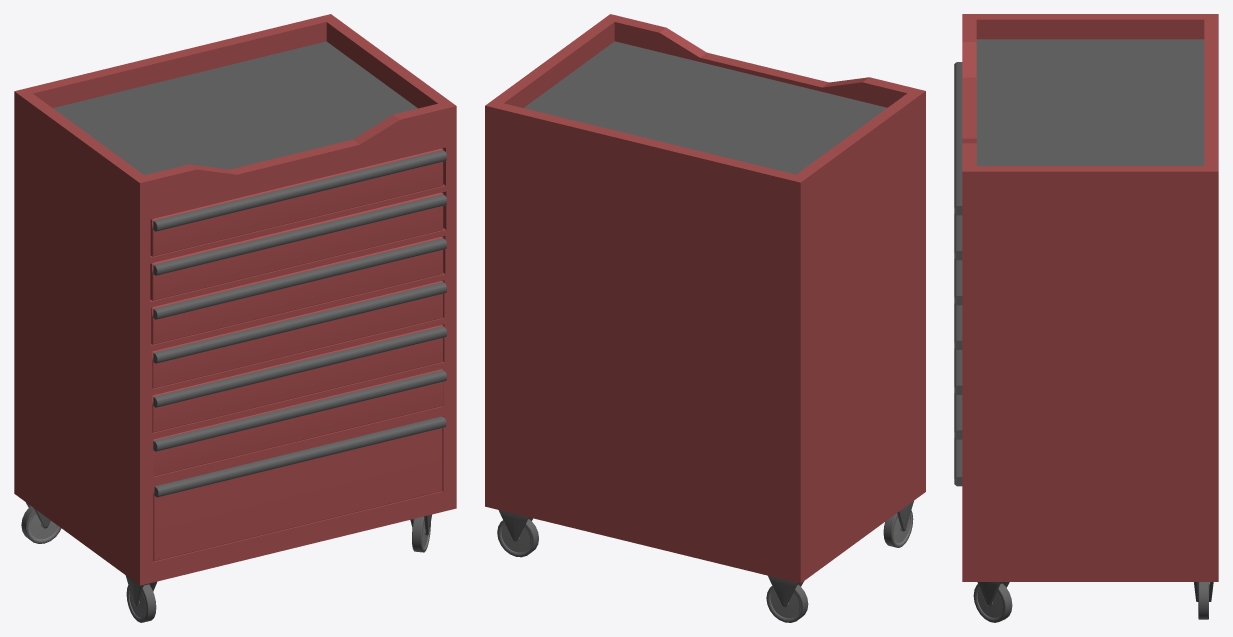
File: ToolBoxClosedGeo.fbx
3 views of the same model, side by side, from view 1: azimuth 30°, elevation 25°; view 2: azimuth 150°, elevation 25°; view 3: azimuth 270°, elevation 25° (orthographic). The views are drawn at different scales.
Parts seen in each view (by area): view 1: ToolBoxClosedGeo; view 2: ToolBoxClosedGeo; view 3: ToolBoxClosedGeo.
Part boxes in pixels (left/top/right/bottom): ToolBoxClosedGeo: left=14, top=14, right=456, bottom=622; ToolBoxClosedGeo: left=485, top=14, right=925, bottom=622; ToolBoxClosedGeo: left=954, top=14, right=1218, bottom=622.
Size of the model in its own units: 203 by 277 by 144.
